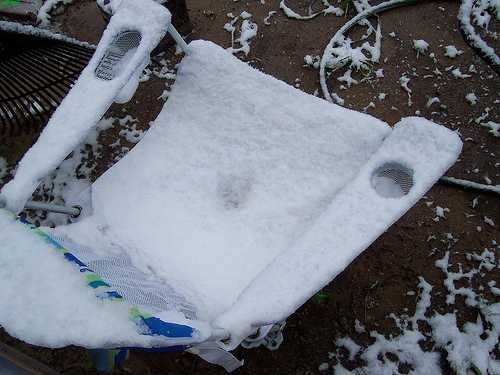obstacle: (0, 0, 461, 365)
